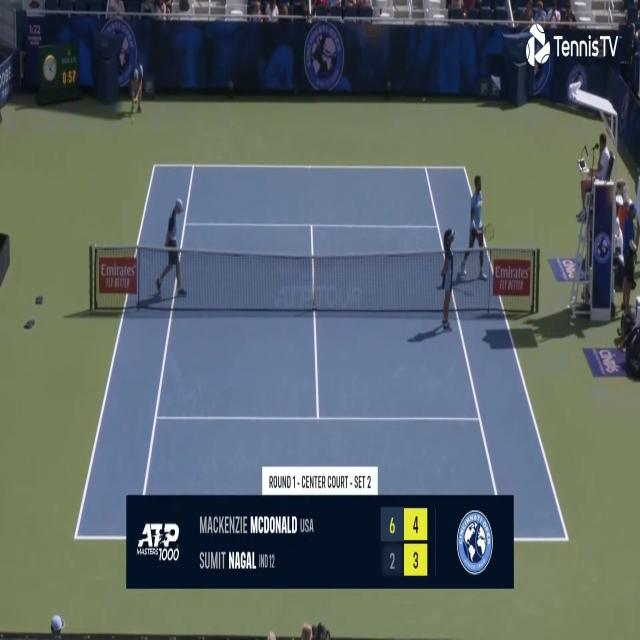tennis-player: (458, 169, 497, 283)
